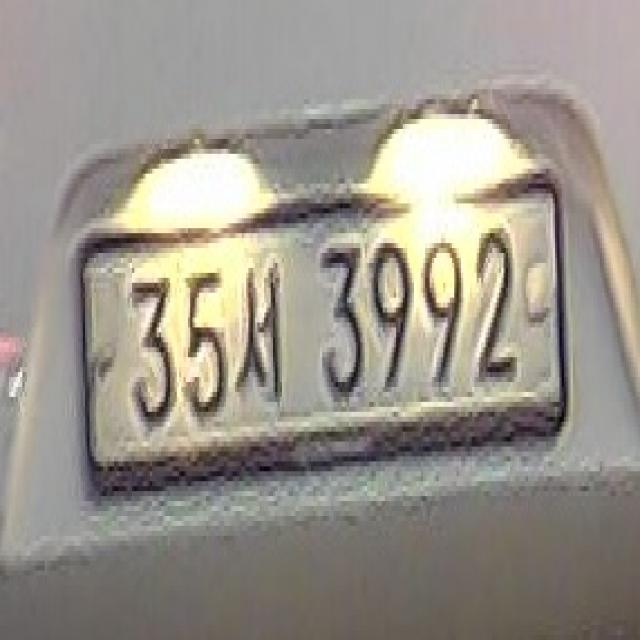2: (474, 223, 520, 382)
3: (316, 238, 364, 412), (126, 268, 174, 427)
5: (184, 273, 228, 422)
9: (369, 238, 414, 392), (421, 228, 463, 392)
license_plate: (78, 179, 562, 471)
seo: (235, 263, 284, 402)
